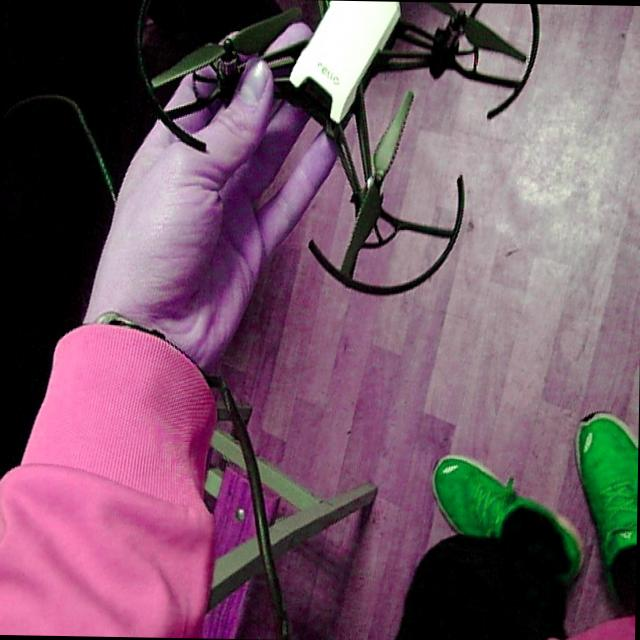drone: (114, 0, 562, 315)
